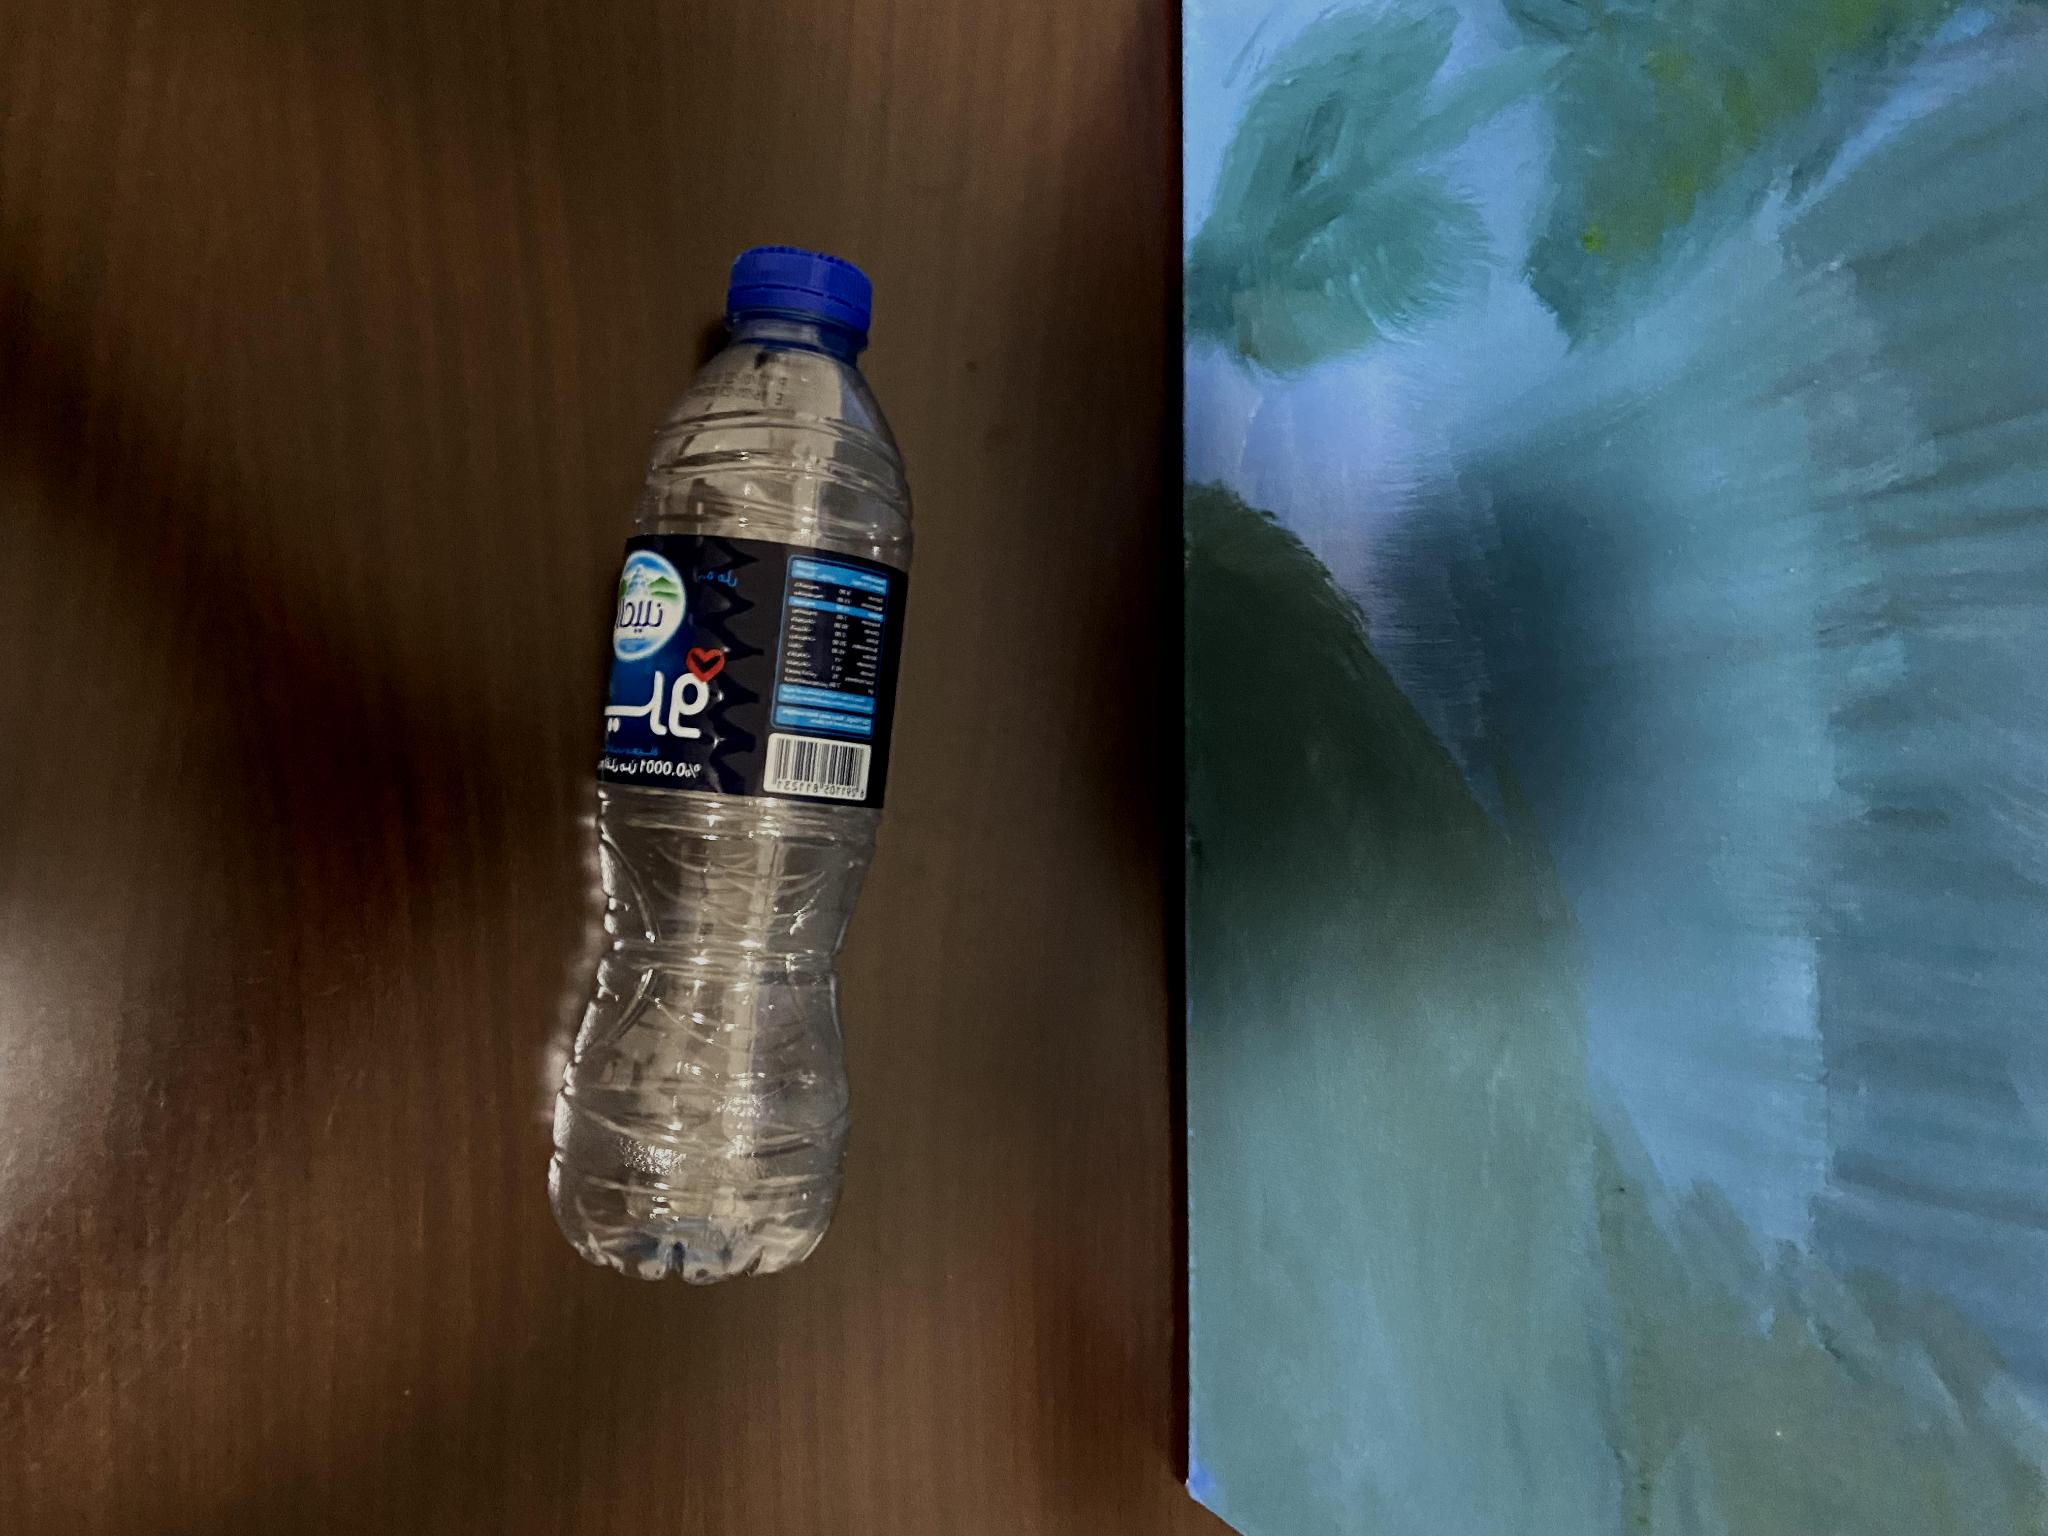bottle: (529, 260, 903, 1292)
